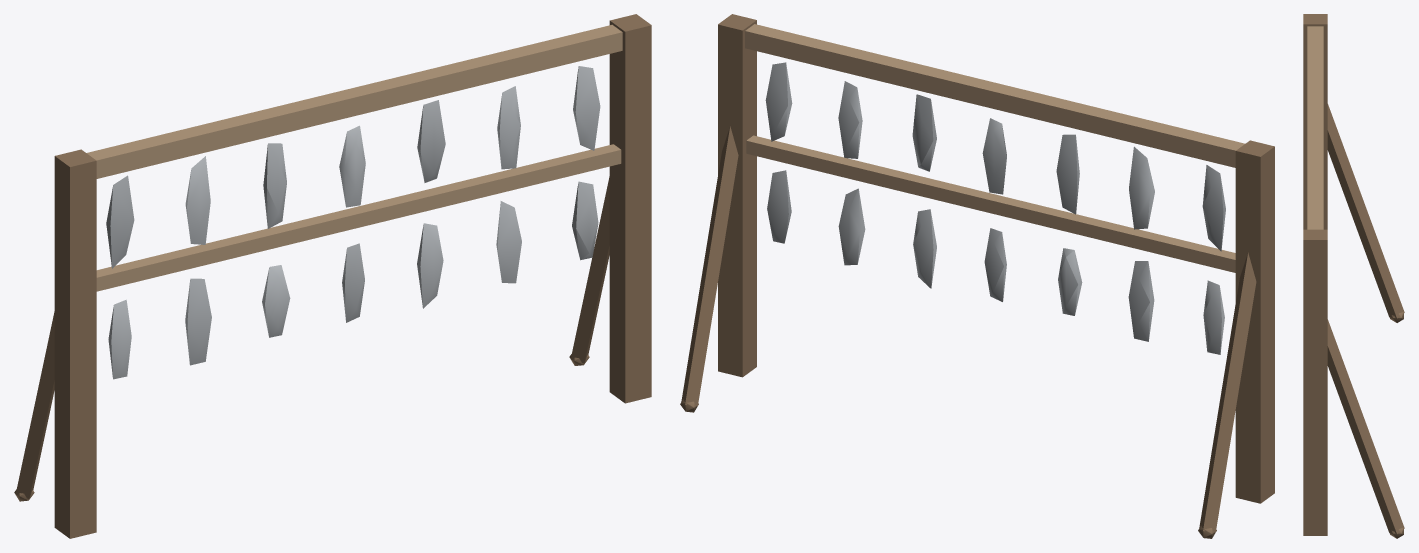
Rendered from fish_rack.glb.
The picture shows the model from 3 angles, left to right: view 1: azimuth 30°, elevation 25°; view 2: azimuth 150°, elevation 25°; view 3: azimuth 270°, elevation 25°; orthographic projection. The views are drawn at different scales.
Visible parts, largest first — view 1: fish_rack; view 2: fish_rack; view 3: fish_rack.
Boxes of the visible parts, x1,y1,x2,y2 form: fish_rack: [14, 14, 651, 538]; fish_rack: [680, 14, 1274, 538]; fish_rack: [1303, 14, 1404, 538].
Bounding box in the file's own units: 2.62 × 1.63 × 0.4979.
